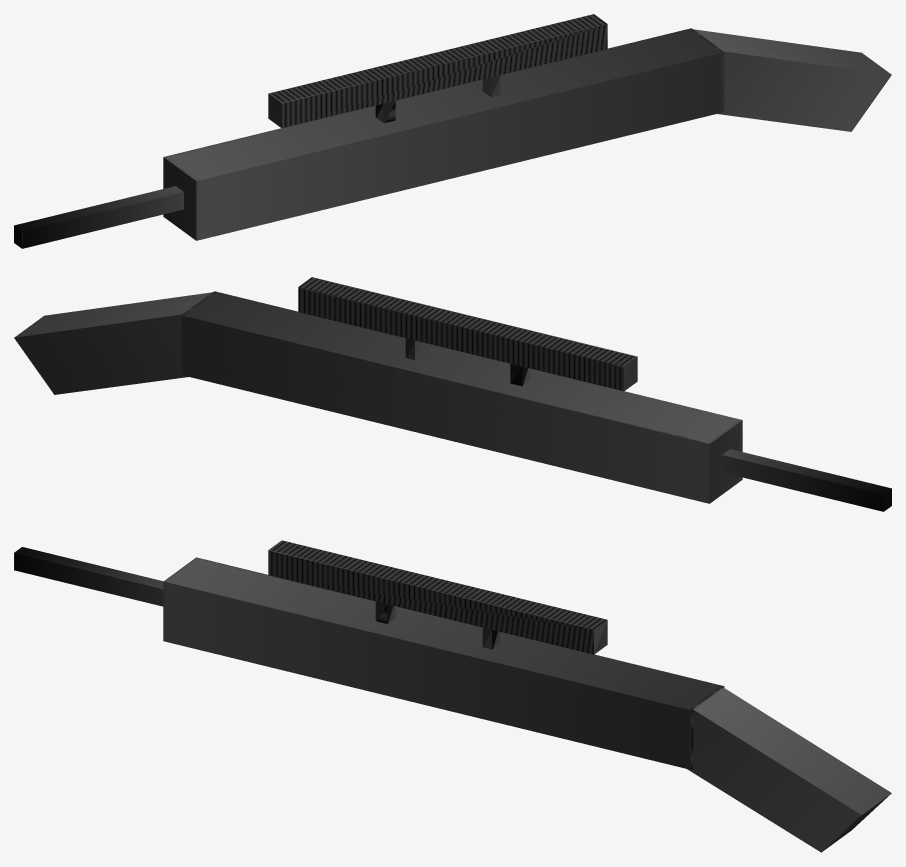
Rendered from sniper.obj.
3 renders of one model, top to bottom at view 1: azimuth 30°, elevation 25°; view 2: azimuth 150°, elevation 25°; view 3: azimuth 330°, elevation 25°, orthographic.
Bounding box in the file's own units: 3.61 × 0.64 × 0.24.
